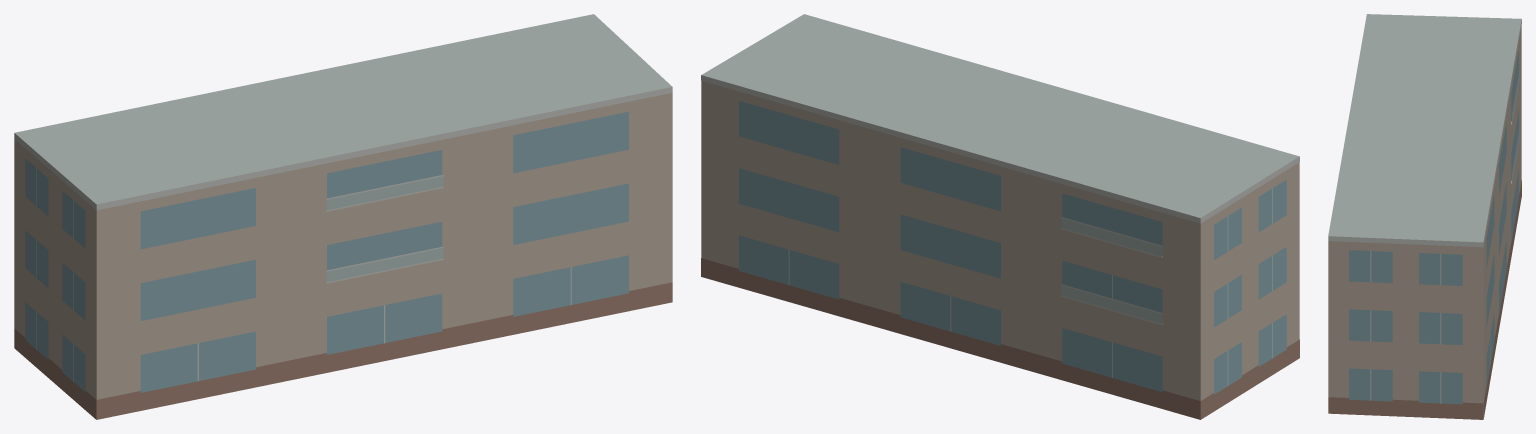
File: survey-upis-32767280.glb
3 views of the same model, side by side, from view 1: azimuth 30°, elevation 25°; view 2: azimuth 150°, elevation 25°; view 3: azimuth 270°, elevation 25° (orthographic). The views are drawn at different scales.
Visible parts, largest first — view 1: survey-upis-32767280.tmp; view 2: survey-upis-32767280.tmp; view 3: survey-upis-32767280.tmp.
Part boxes in pixels (left/top/right/bottom): survey-upis-32767280.tmp: left=14, top=14, right=672, bottom=419; survey-upis-32767280.tmp: left=701, top=14, right=1299, bottom=419; survey-upis-32767280.tmp: left=1328, top=14, right=1521, bottom=419.
Bounding box in the file's own units: 24.58 × 8.9 × 8.81.
